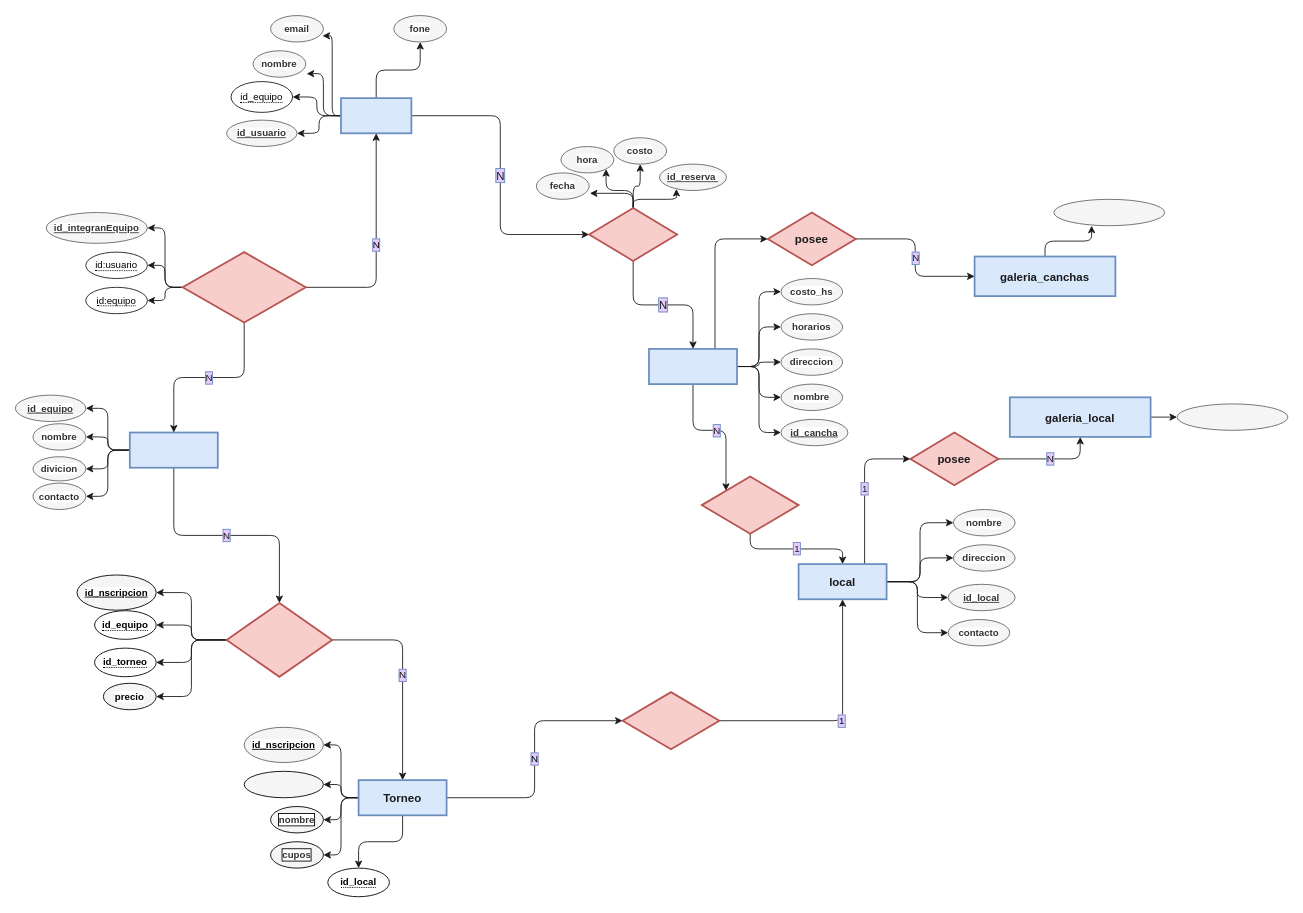
This 1303x913 diagram has some shape labels left out. The shapes that lost their labels are listed below. From the top down, each one's box as (x1, y1, x2, y2) in pixels, then its label:
(340, 97, 412, 134): usuario
(1053, 198, 1165, 226): id_galeriaCancha
(588, 207, 678, 261): reserva
(181, 251, 306, 323): integranEquipo
(648, 348, 737, 385): cancha
(1176, 403, 1288, 430): id_galeriaLocal
(128, 431, 218, 468): Equipo
(700, 475, 799, 534): pertenece
(225, 602, 333, 677): inscripcion
(621, 691, 720, 750): realiza
(243, 770, 323, 798): fecha inicio
